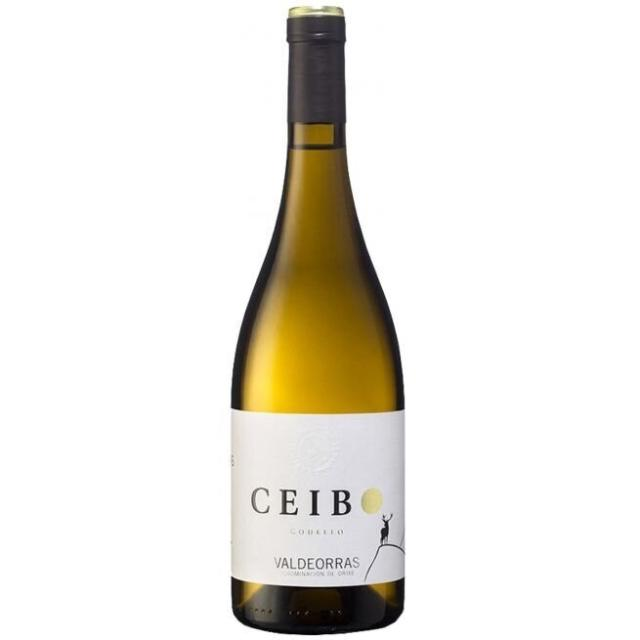Vidrio: (210, 0, 433, 626)
